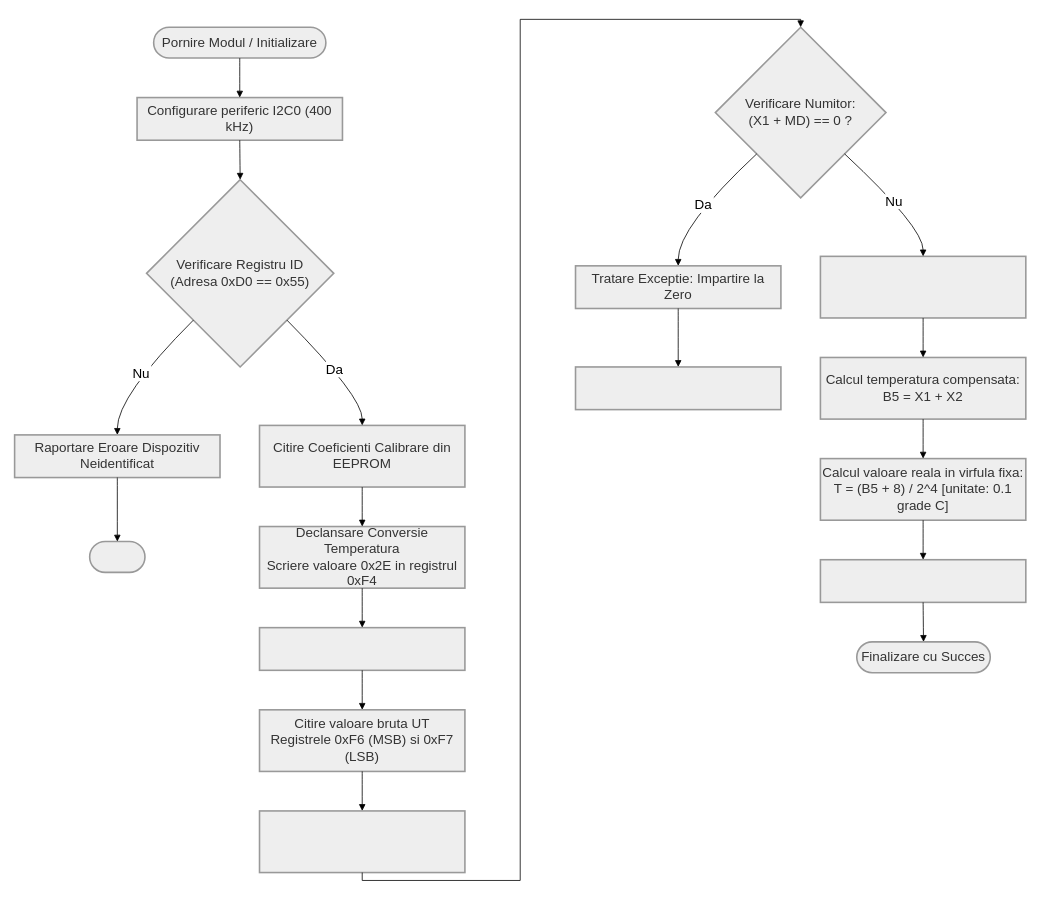
Some shapes in this 1040 by 901 pixel diagram are drawn without their labels. The shapes that lost their labels are listed below. From the top down, each one's box as (x1, y1, x2, y2) in pixels, then its label:
(819, 255, 1026, 318): Calcul termen intermediar: X2 = (MC * 2^11) / (X1 + MD)
(574, 366, 781, 410): Returnare Cod Eroare -EINVAL
(88, 540, 145, 573): Oprire
(819, 559, 1026, 603): Formatare Payload si Transmitere catre Zephyr Workqueue
(258, 626, 465, 671): Asteptare finalizare conversie (4.5 ms)
(258, 810, 465, 873): Calcul termen intermediar: X1 = ((UT - AC6) * AC5) / 2^15
